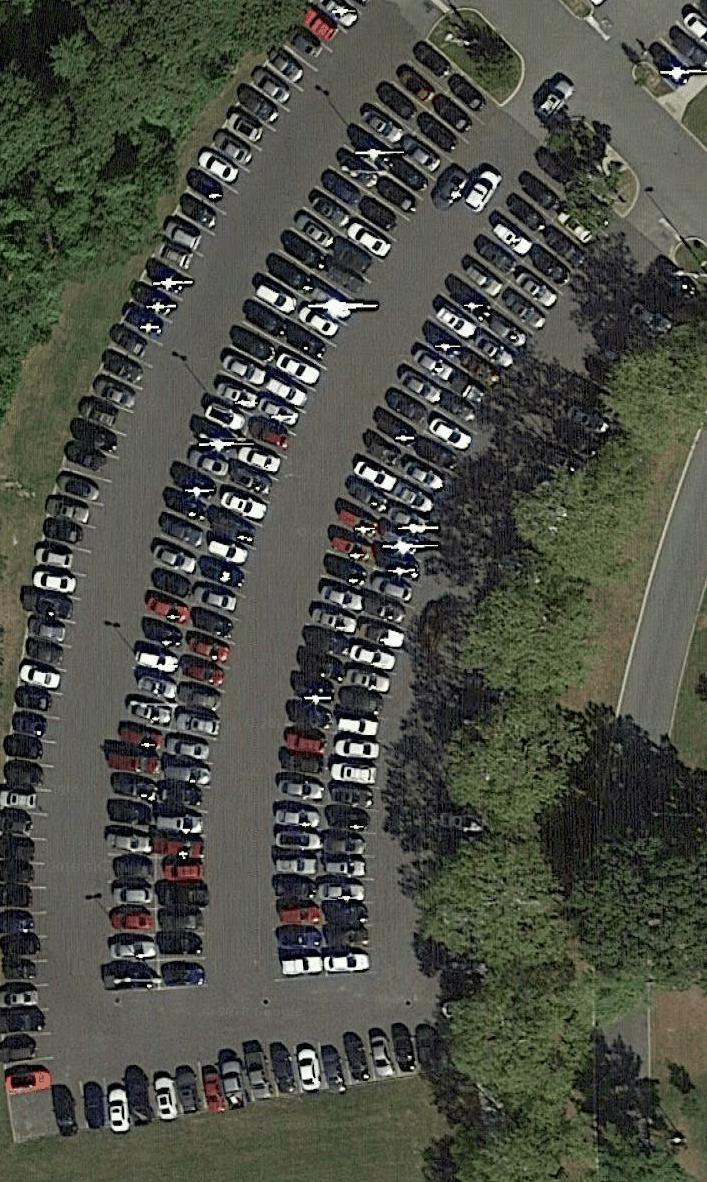parkingspot: (0, 0, 367, 1100), (104, 33, 461, 995), (148, 67, 505, 990), (266, 134, 581, 983), (318, 203, 626, 979), (48, 1023, 445, 1139), (635, 0, 707, 92)
